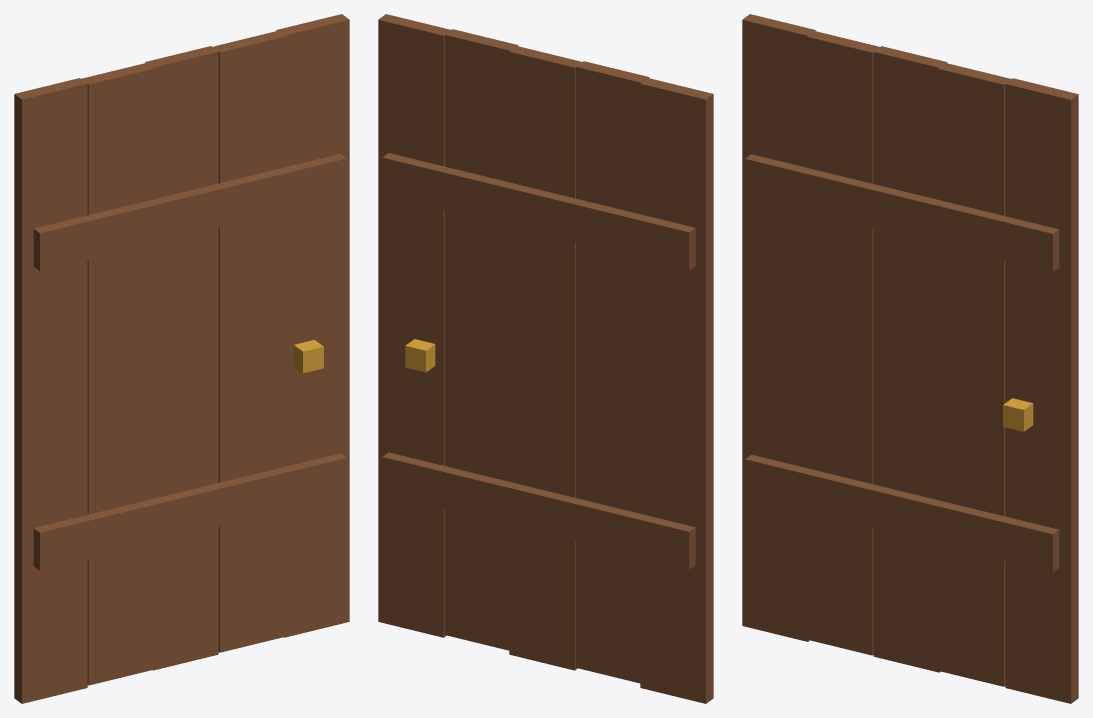
Rendered from door.glb.
3 renders of one model, left to right at view 1: azimuth 30°, elevation 25°; view 2: azimuth 150°, elevation 25°; view 3: azimuth 330°, elevation 25°, orthographic.
Visible parts, largest first — view 1: leaf; view 2: leaf; view 3: leaf.
Boxes of the visible parts, x1,y1,x2,y2 form: leaf: (14, 14, 349, 703); leaf: (378, 14, 713, 703); leaf: (742, 14, 1078, 703).
Bounding box in the file's own units: 1.26 × 2.22 × 0.184.
